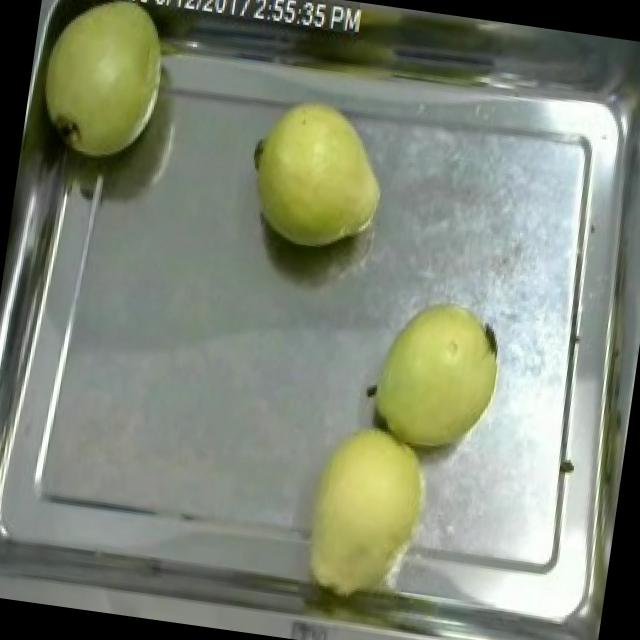Fruit: (284, 404, 447, 612), (236, 84, 403, 264), (361, 286, 516, 462), (24, 0, 179, 174)
